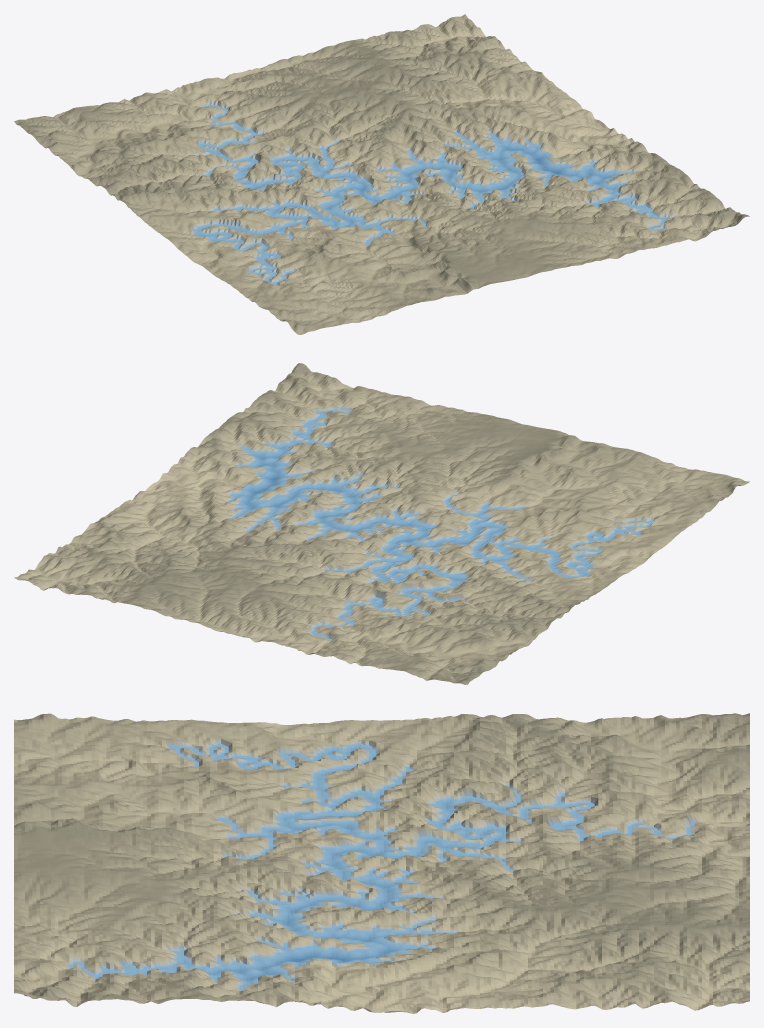
File: table_rock_lake_mo.glb
3 renders of one model, top to bottom at view 1: azimuth 30°, elevation 25°; view 2: azimuth 150°, elevation 25°; view 3: azimuth 270°, elevation 25°, orthographic. The views are drawn at different scales.
Parts seen in each view (by area): view 1: terrain, water; view 2: terrain, water; view 3: terrain, water.
Part boxes in pixels (x1,y1,x2,y2): terrain: (14,14,749,334); water: (194,104,668,285); terrain: (14,363,749,684); water: (229,407,653,640); terrain: (14,713,749,1013); water: (69,743,694,990).
Bounding box in the file's own units: 37041 × 1299 × 40498.
